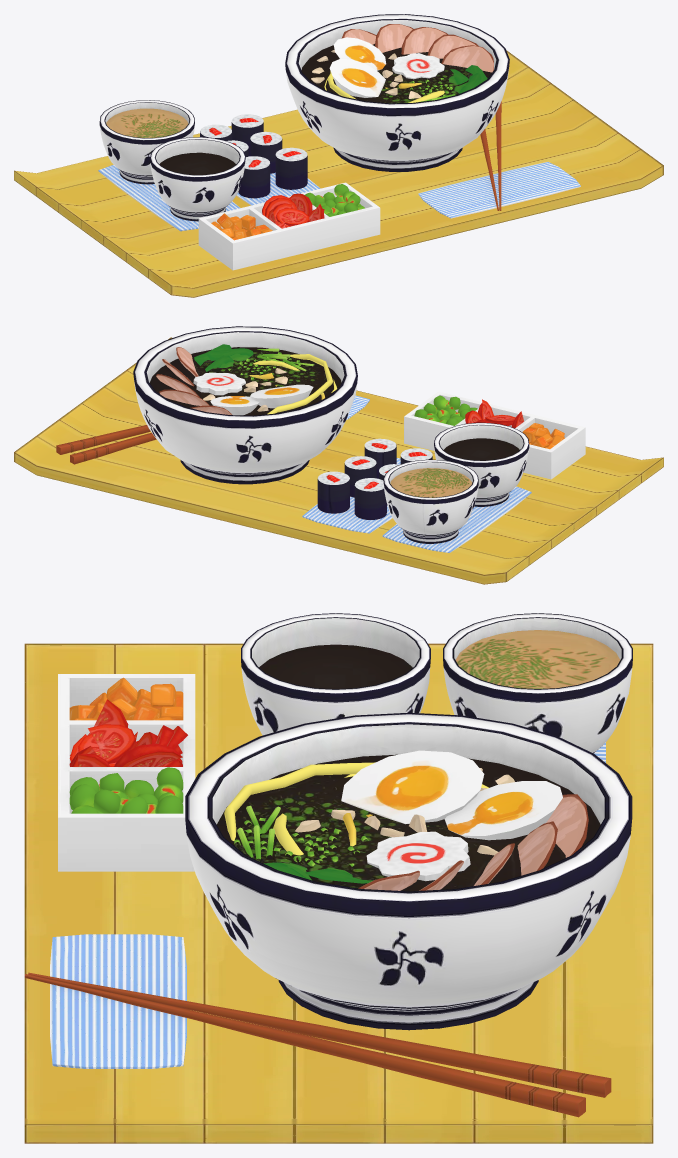
File: udon.glb
The picture shows the model from 3 angles, top to bottom: view 1: azimuth 30°, elevation 25°; view 2: azimuth 150°, elevation 25°; view 3: azimuth 270°, elevation 25°; orthographic projection. The views are drawn at different scales.
Parts seen in each view (by area): view 1: table_mat_table_0, cup_01_mat_bowl_0, sushi_00_mat_ingredients_0, cloth_00_mat_misc_0; view 2: table_mat_table_0, cup_01_mat_bowl_0, sushi_00_mat_ingredients_0, cloth_00_mat_misc_0; view 3: cup_01_mat_bowl_0, table_mat_table_0, cloth_00_mat_misc_0, sushi_00_mat_ingredients_0.
Boxes of the visible parts, <box> form: table_mat_table_0: <box>14,50,663,297</box>; cup_01_mat_bowl_0: <box>99,14,509,221</box>; sushi_00_mat_ingredients_0: <box>200,24,493,240</box>; cloth_00_mat_misc_0: <box>98,101,580,270</box>; table_mat_table_0: <box>14,337,663,584</box>; cup_01_mat_bowl_0: <box>133,326,529,543</box>; sushi_00_mat_ingredients_0: <box>156,344,564,519</box>; cloth_00_mat_misc_0: <box>56,391,585,552</box>; cup_01_mat_bowl_0: <box>185,613,632,1030</box>; table_mat_table_0: <box>24,643,653,1143</box>; cloth_00_mat_misc_0: <box>24,674,611,1117</box>; sushi_00_mat_ingredients_0: <box>69,677,588,890</box>.
Size of the model in its own units: 6.44 by 1.2 by 3.56.
Materials: 4 (4 with a texture image).
